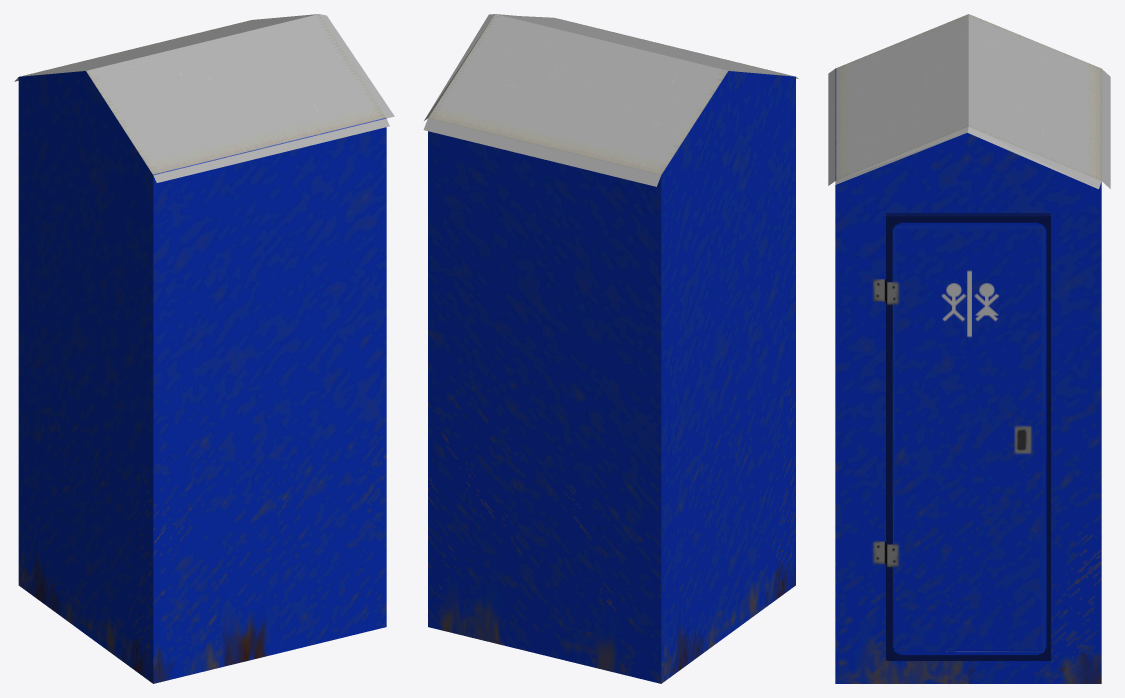
The model's file is bathroom.fbx.
3 views of the same model, side by side, from view 1: azimuth 30°, elevation 25°; view 2: azimuth 150°, elevation 25°; view 3: azimuth 270°, elevation 25° (orthographic).
Visible parts, largest first — view 1: polySurface1; view 2: polySurface1; view 3: polySurface1.
Part boxes in pixels (x1=…): polySurface1: x1=14, y1=14, x2=394, y2=683; polySurface1: x1=423, y1=14, x2=798, y2=683; polySurface1: x1=828, y1=14, x2=1110, y2=683.
Size of the model in its own units: 62.13 by 139 by 63.59.
1 material, 1 textured.
